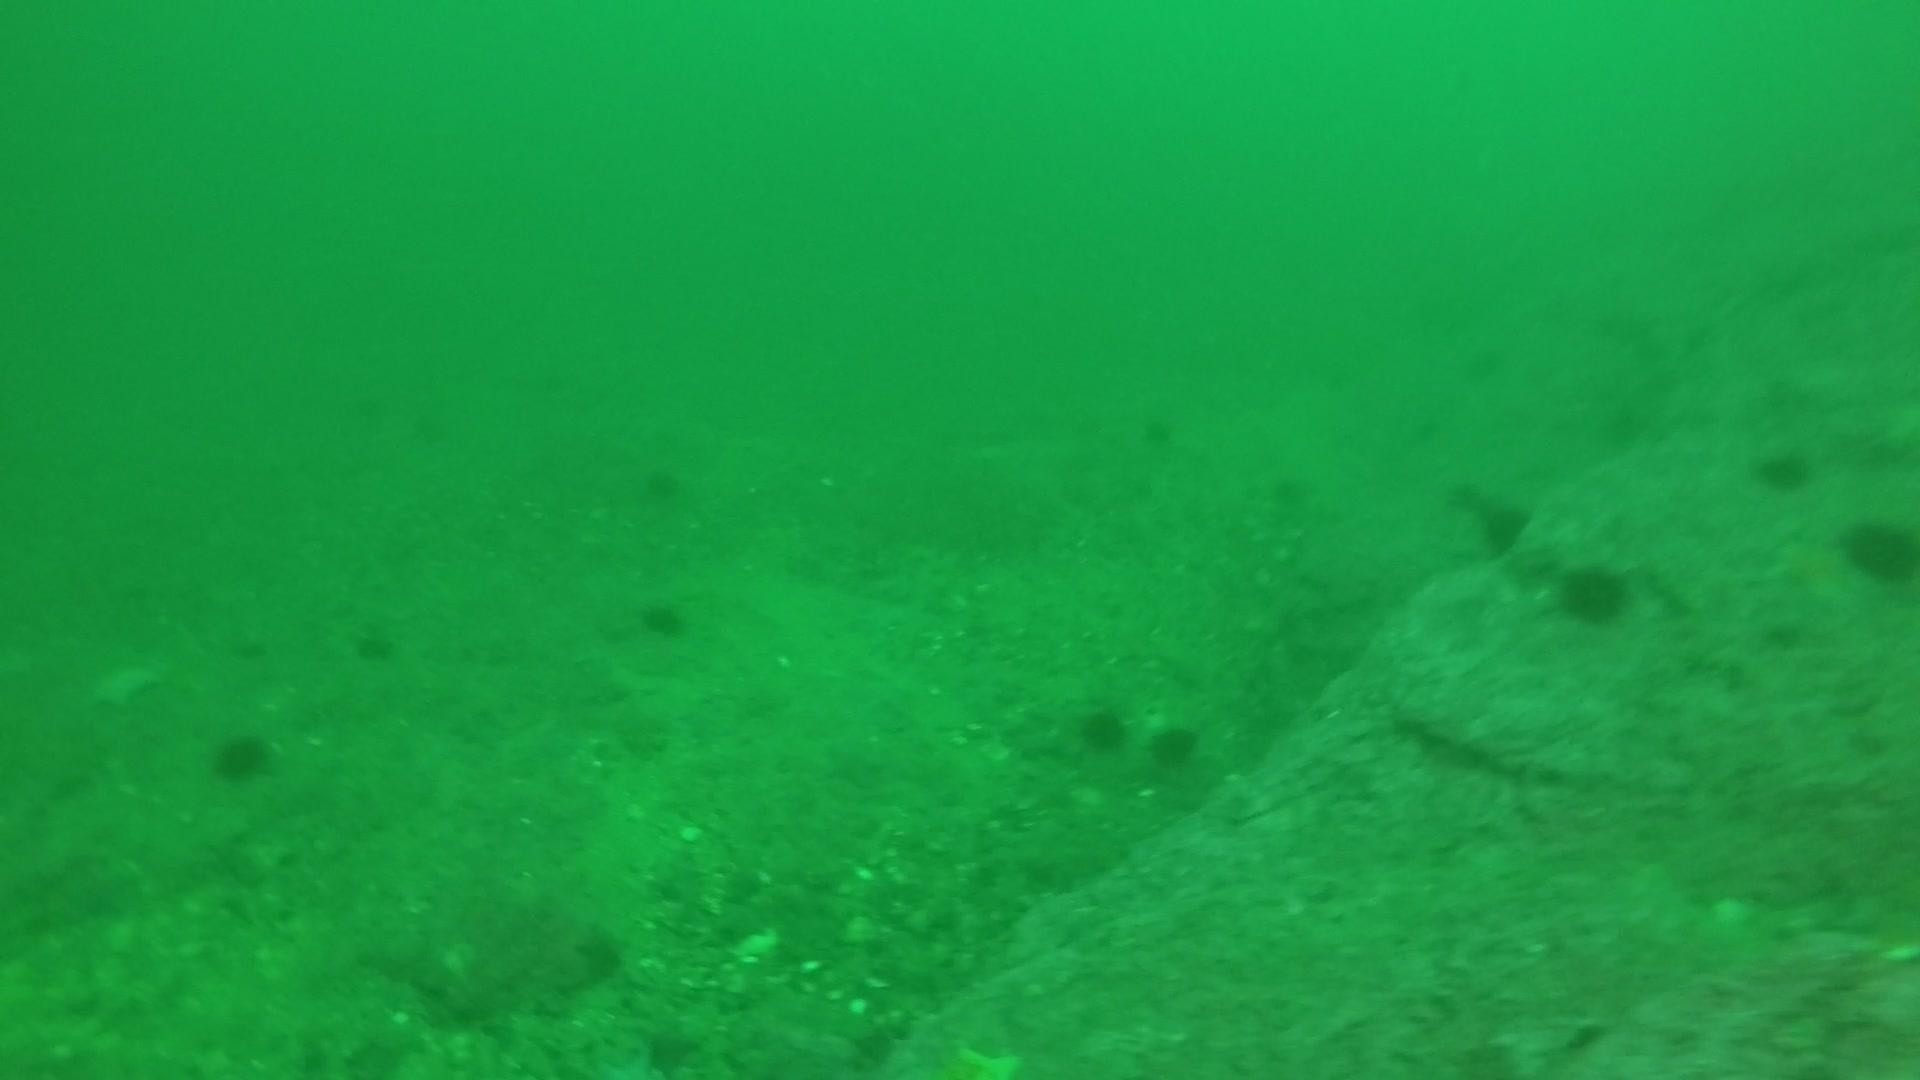echinus: (1838, 510, 1917, 588), (1552, 556, 1635, 629), (207, 727, 278, 786), (1749, 439, 1816, 496), (1072, 698, 1133, 757), (1145, 717, 1205, 774), (1481, 500, 1534, 556), (634, 593, 694, 644), (348, 618, 401, 667), (636, 459, 688, 506), (1127, 413, 1182, 458), (1265, 465, 1319, 510), (1439, 469, 1489, 517)
starfish: (87, 654, 165, 715), (637, 1022, 705, 1076)
